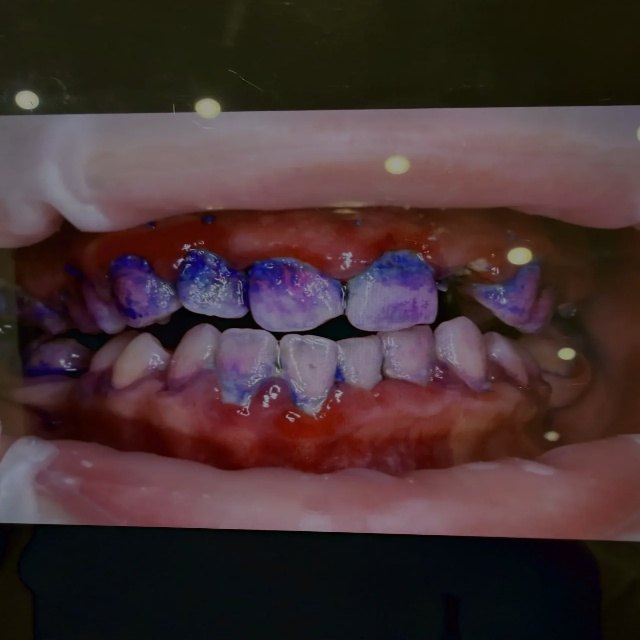plaque: (87, 249, 343, 333), (354, 251, 450, 382), (170, 330, 308, 403), (476, 264, 545, 331), (35, 345, 72, 385)
